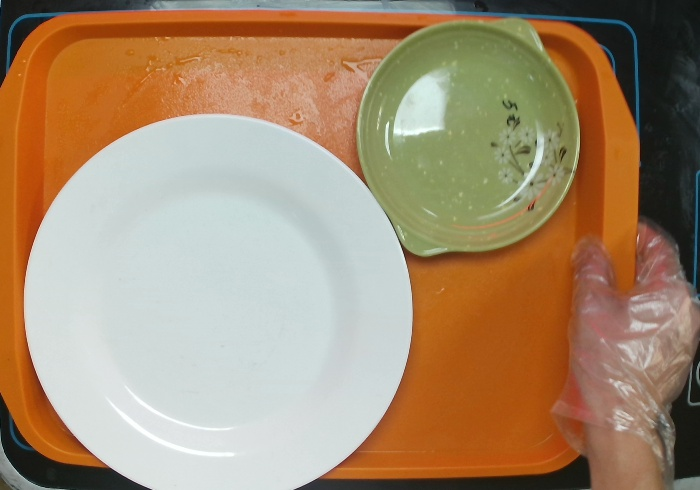NLDX-Da_Yuan_Pan: (23, 90, 420, 490)
NLDX-Lv_Hua_Shuang_Er_Die: (353, 20, 581, 265)
